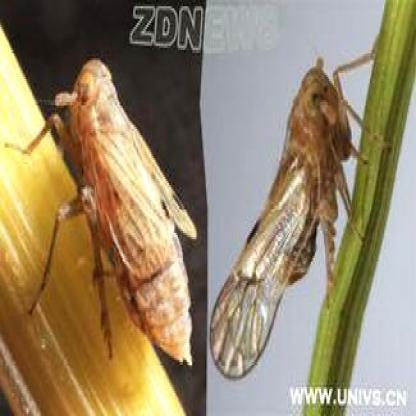brown-planthopper: (210, 55, 364, 378), (48, 55, 194, 368)
